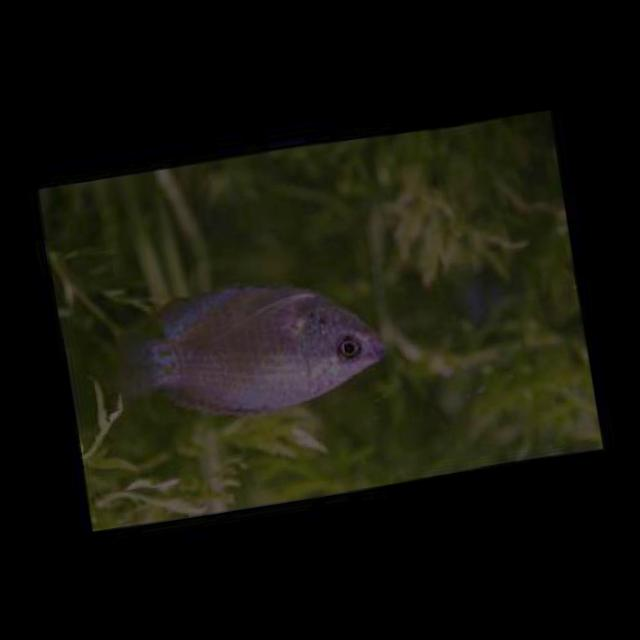Gourami: (95, 262, 396, 442)
